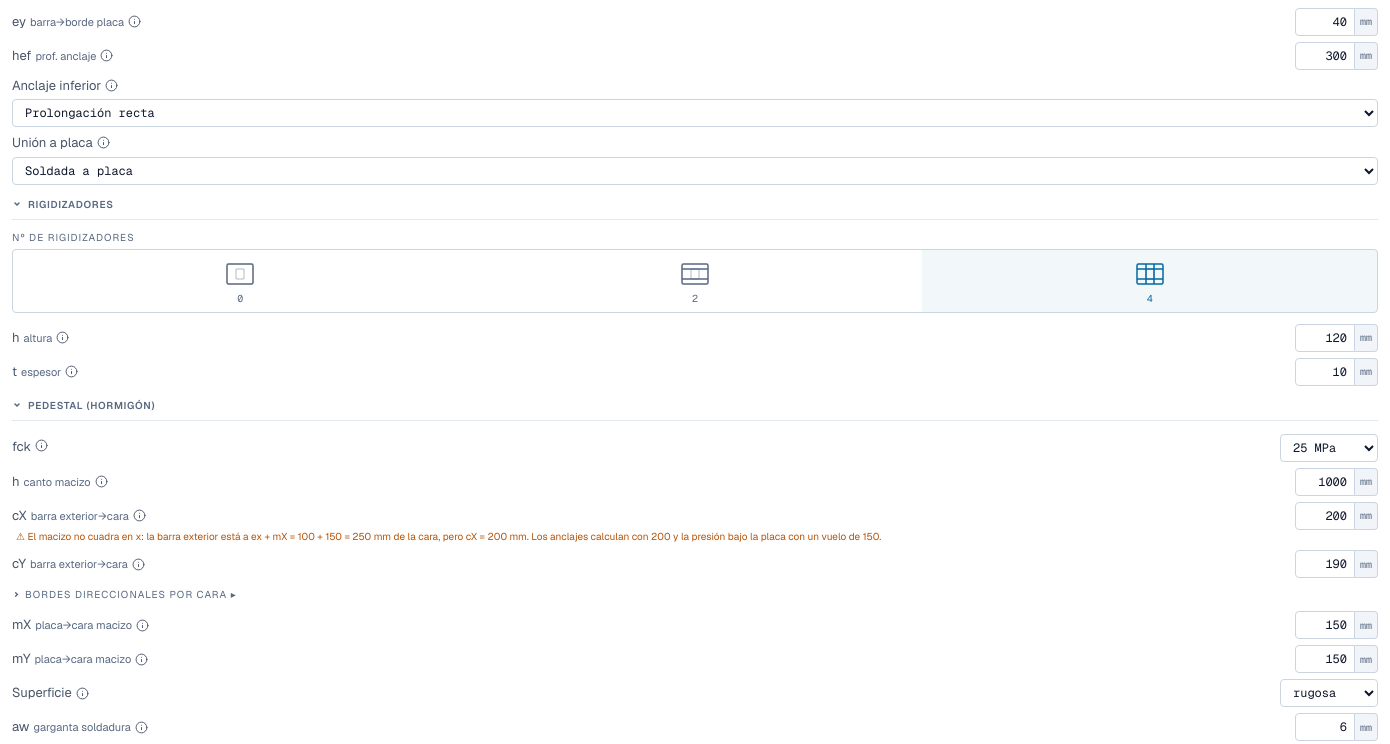
AnchorPlateInputsPanel — ex, mX y cX se mueven juntos › un estado que no cuadra enseña el aviso bajo cX, y se va al tocar cualquiera de las tres
(page scrolled)
Expected: the text "El macizo no cuadra en x" is shown, top-left (28, 530), bottom-right (881, 542)
Replace the text in the field with id "ap-plate_margin_x" with "100" at x=1325, y=625, box top-left (1295, 611), bottom-right (1355, 639)
(page scrolled)
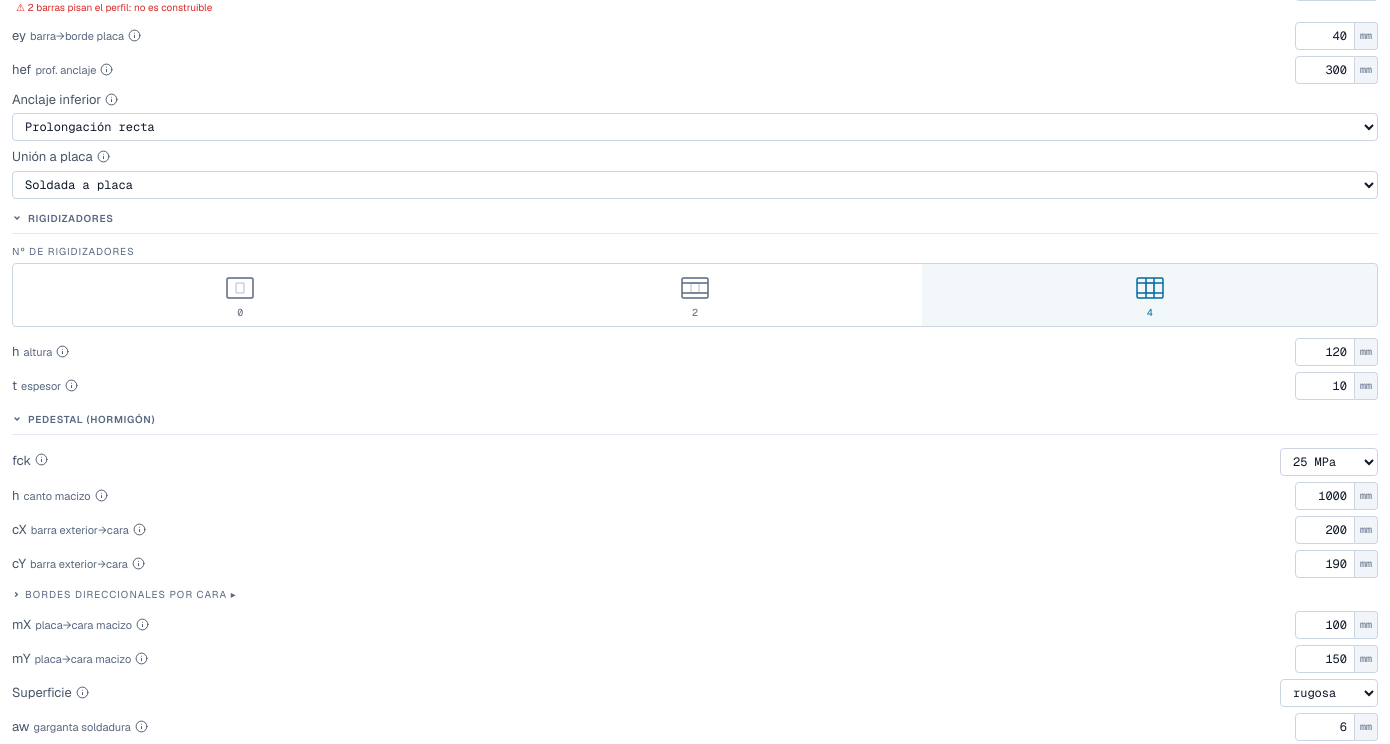
Result: the text "El macizo no cuadra" is gone
